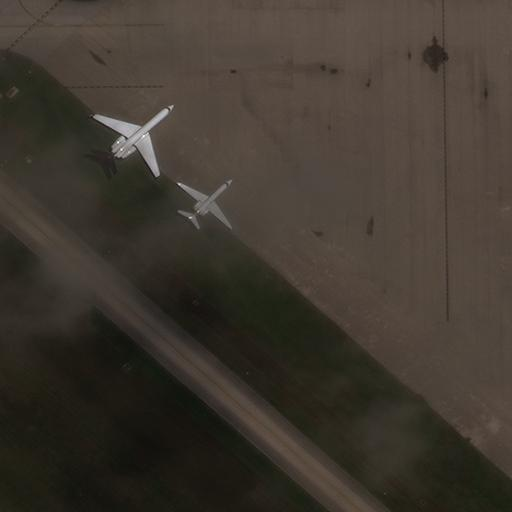Medium Civil Transport: (94, 104, 174, 174), (178, 178, 232, 226)
